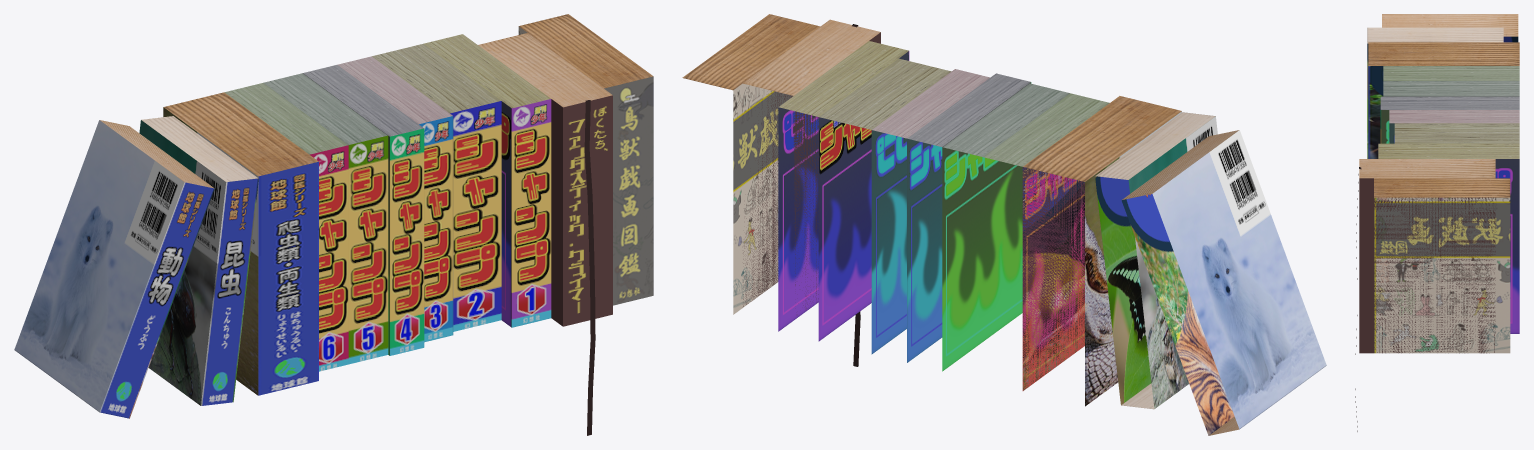
The model's file is KomonoB.fbx.
3 views of the same model, side by side, from view 1: azimuth 30°, elevation 25°; view 2: azimuth 150°, elevation 25°; view 3: azimuth 270°, elevation 25° (orthographic). The views are drawn at different scales.
Visible parts, largest first — view 1: KomonoB; view 2: KomonoB; view 3: KomonoB.
Part boxes in pixels (x1=…): KomonoB: x1=14, y1=14, x2=653, y2=435; KomonoB: x1=682, y1=14, x2=1326, y2=435; KomonoB: x1=1355, y1=14, x2=1519, y2=431.
Bounding box in the file's own units: 55.03 × 32.29 × 17.83.
